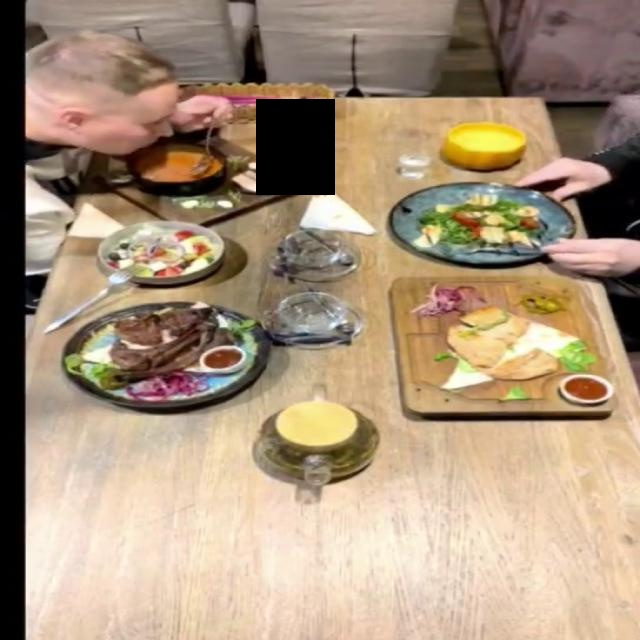meat: (388, 278, 613, 424), (64, 300, 275, 407)
salad: (390, 181, 580, 265), (95, 219, 225, 284)
soup: (87, 132, 317, 227), (440, 121, 527, 170)
tea: (235, 371, 397, 501)
